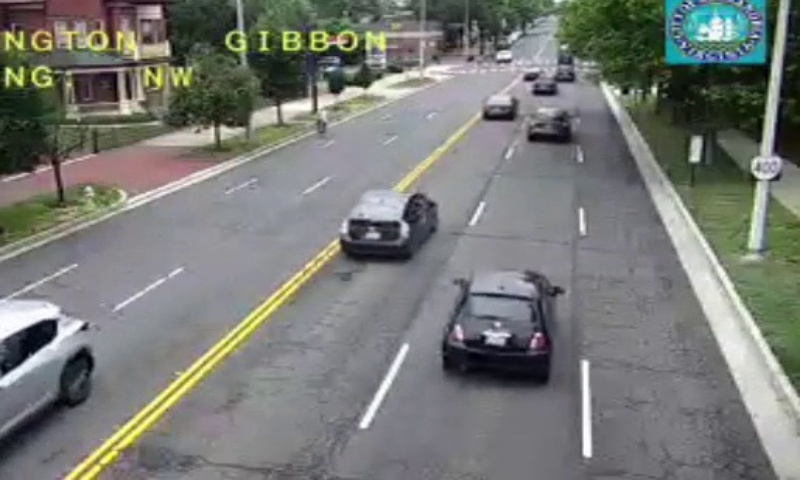car: (440, 271, 552, 367), (339, 190, 435, 256), (526, 108, 569, 138), (482, 94, 516, 119)
